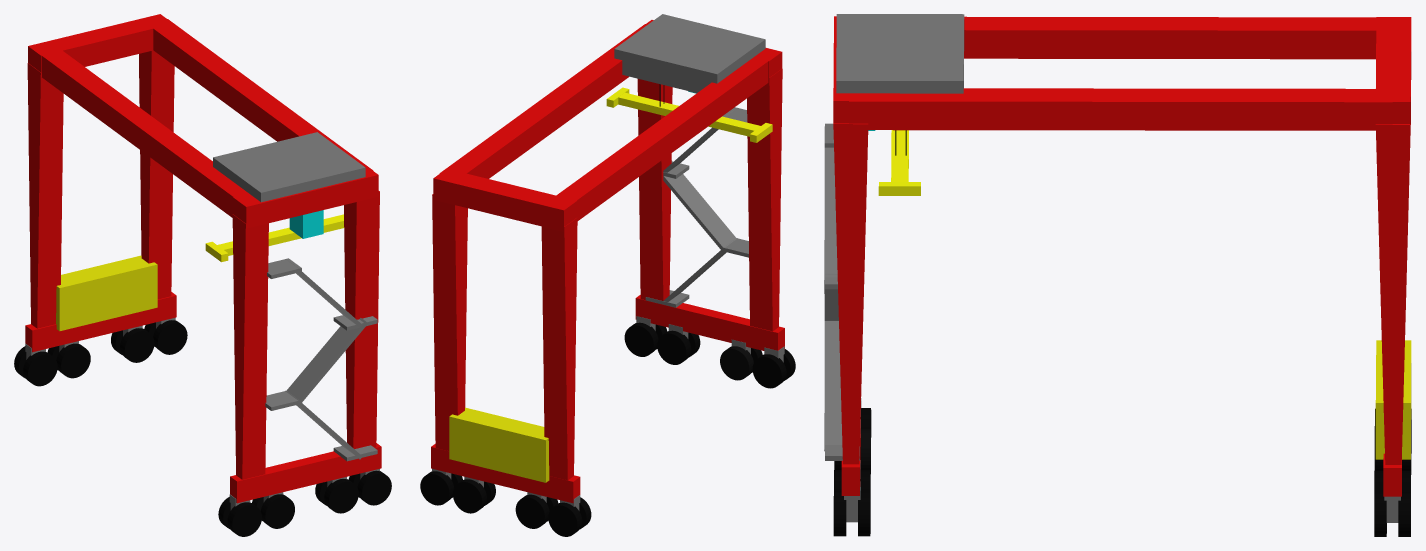
File: RTG9+Spreader.gltf
3 views of the same model, side by side, from view 1: azimuth 30°, elevation 25°; view 2: azimuth 150°, elevation 25°; view 3: azimuth 270°, elevation 25° (orthographic). The views are drawn at different scales.
Visible parts, largest first — view 1: Cube.006, Cube.005, Cube.011, Cube.007, Machinery, Cube.012, Cube.008, Cube.041, Cube.009, Cube.013, Cube.010, Cube.014 (+15 smaller); view 2: Cube.005, Cube.011, Cube.006, Cube.008, Machinery, Cube.012, Cube.041, Cube.007, Cube.009, Cube.013, Cube.014, Spreader (+11 smaller); view 3: Cube.012, Cube.011, Machinery, Cube.007, Cube.008, Cube.009, Cube.039, Cube.041, Cube.036, Spreader, Cube.010, Cube.013.
Part boxes in pixels (<box>): Cube.006: <box>232,214,268,479</box>; Cube.005: <box>27,63,63,328</box>; Cube.011: <box>36,49,253,217</box>; Cube.007: <box>344,191,379,448</box>; Machinery: <box>213,132,365,202</box>; Cube.012: <box>149,19,373,171</box>; Cube.008: <box>139,50,174,299</box>; Cube.041: <box>56,255,157,331</box>; Cube.009: <box>28,14,173,77</box>; Cube.013: <box>230,443,381,503</box>; Cube.010: <box>233,165,378,228</box>; Cube.014: <box>25,292,176,352</box>; Cube.005: <box>541,217,577,480</box>; Cube.011: <box>548,53,773,220</box>; Cube.006: <box>747,68,782,331</box>; Cube.008: <box>432,194,467,450</box>; Machinery: <box>614,14,765,92</box>; Cube.012: <box>439,24,647,178</box>; Cube.041: <box>449,407,549,482</box>; Cube.007: <box>637,79,672,300</box>; Cube.009: <box>433,169,577,231</box>; Cube.013: <box>635,295,784,350</box>; Cube.014: <box>431,443,580,503</box>; Spreader: <box>606,87,772,142</box>; Cube.012: <box>849,88,1392,130</box>; Cube.011: <box>964,16,1394,59</box>; Machinery: <box>836,14,964,93</box>; Cube.007: <box>833,123,868,464</box>; Cube.008: <box>1375,124,1410,464</box>; Cube.009: <box>1375,17,1411,124</box>; Cube.039: <box>824,321,842,451</box>; Cube.041: <box>1375,340,1411,459</box>; Cube.036: <box>824,147,837,274</box>; Spreader: <box>878,130,920,195</box>; Cube.010: <box>833,16,868,129</box>; Cube.013: <box>841,421,860,495</box>.
Bounding box in the file's own units: 13.91 × 28.1 × 33.5.
